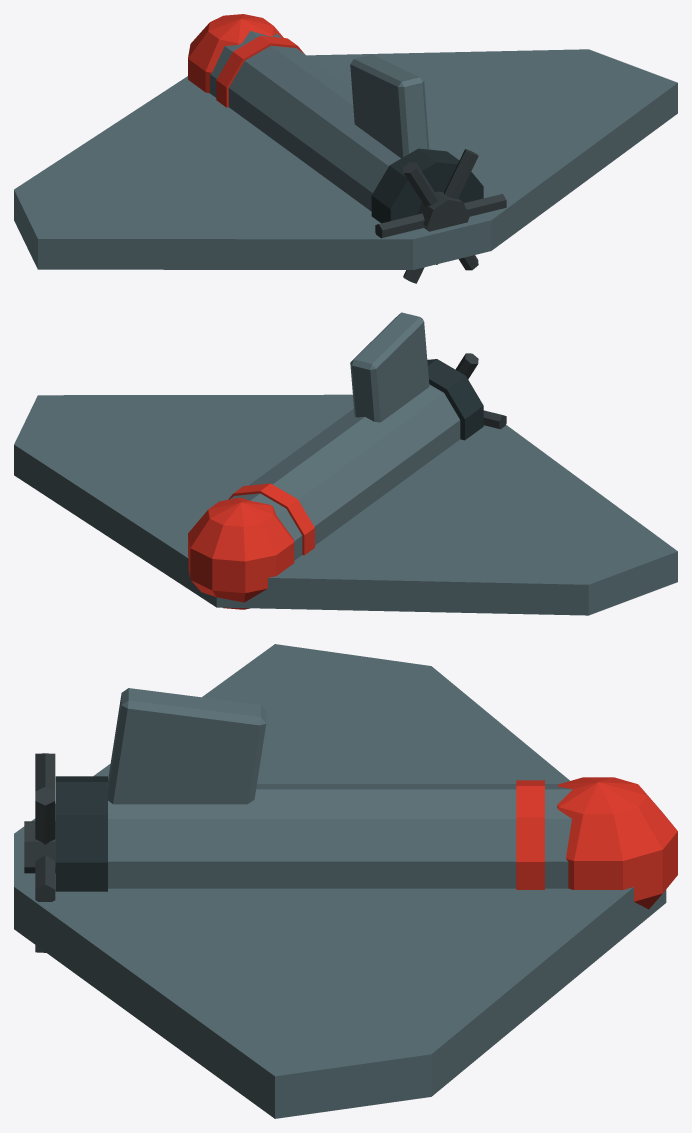
File: EnemyDrone.fbx
3 renders of one model, top to bottom at view 1: azimuth 30°, elevation 25°; view 2: azimuth 150°, elevation 25°; view 3: azimuth 270°, elevation 25°, orthographic. The views are drawn at different scales.
Parts seen in each view (by area): view 1: DeltaWing, Fuselage, VerticalTail, MotorCap, NoseWarhead, WarheadBand, PropellerBlade_01, PropellerHub, PropellerBlade_03, PropellerBlade_02; view 2: DeltaWing, Fuselage, NoseWarhead, VerticalTail, MotorCap, WarheadBand; view 3: DeltaWing, Fuselage, VerticalTail, NoseWarhead, MotorCap, WarheadBand, PropellerBlade_03, PropellerHub, PropellerBlade_01, PropellerBlade_02.
Boxes of the visible parts, left/top/right/bottom form: DeltaWing: left=14, top=49, right=677, bottom=269; Fuselage: left=210, top=31, right=435, bottom=211; VerticalTail: left=350, top=54, right=429, bottom=158; MotorCap: left=371, top=148, right=483, bottom=264; NoseWarhead: left=188, top=14, right=283, bottom=93; WarheadBand: left=216, top=35, right=304, bottom=107; PropellerBlade_01: left=375, top=194, right=506, bottom=238; PropellerHub: left=417, top=191, right=469, bottom=231; PropellerBlade_03: left=403, top=149, right=478, bottom=283; PropellerBlade_02: left=403, top=162, right=478, bottom=270; DeltaWing: left=14, top=394, right=677, bottom=615; Fuselage: left=230, top=384, right=460, bottom=560; NoseWarhead: left=188, top=497, right=294, bottom=609; VerticalTail: left=350, top=312, right=429, bottom=422; MotorCap: left=427, top=359, right=483, bottom=440; WarheadBand: left=228, top=483, right=314, bottom=555; DeltaWing: left=14, top=644, right=666, bottom=1118; Fuselage: left=108, top=784, right=572, bottom=888; VerticalTail: left=108, top=688, right=266, bottom=804; NoseWarhead: left=557, top=777, right=677, bottom=909; MotorCap: left=55, top=776, right=107, bottom=891; WarheadBand: left=516, top=780, right=544, bottom=889; PropellerBlade_03: left=35, top=787, right=55, bottom=844; PropellerHub: left=24, top=821, right=55, bottom=873; PropellerBlade_01: left=35, top=855, right=55, bottom=901; PropellerBlade_02: left=35, top=753, right=55, bottom=952.
Size of the model in its own units: 196 by 51.15 by 127.
